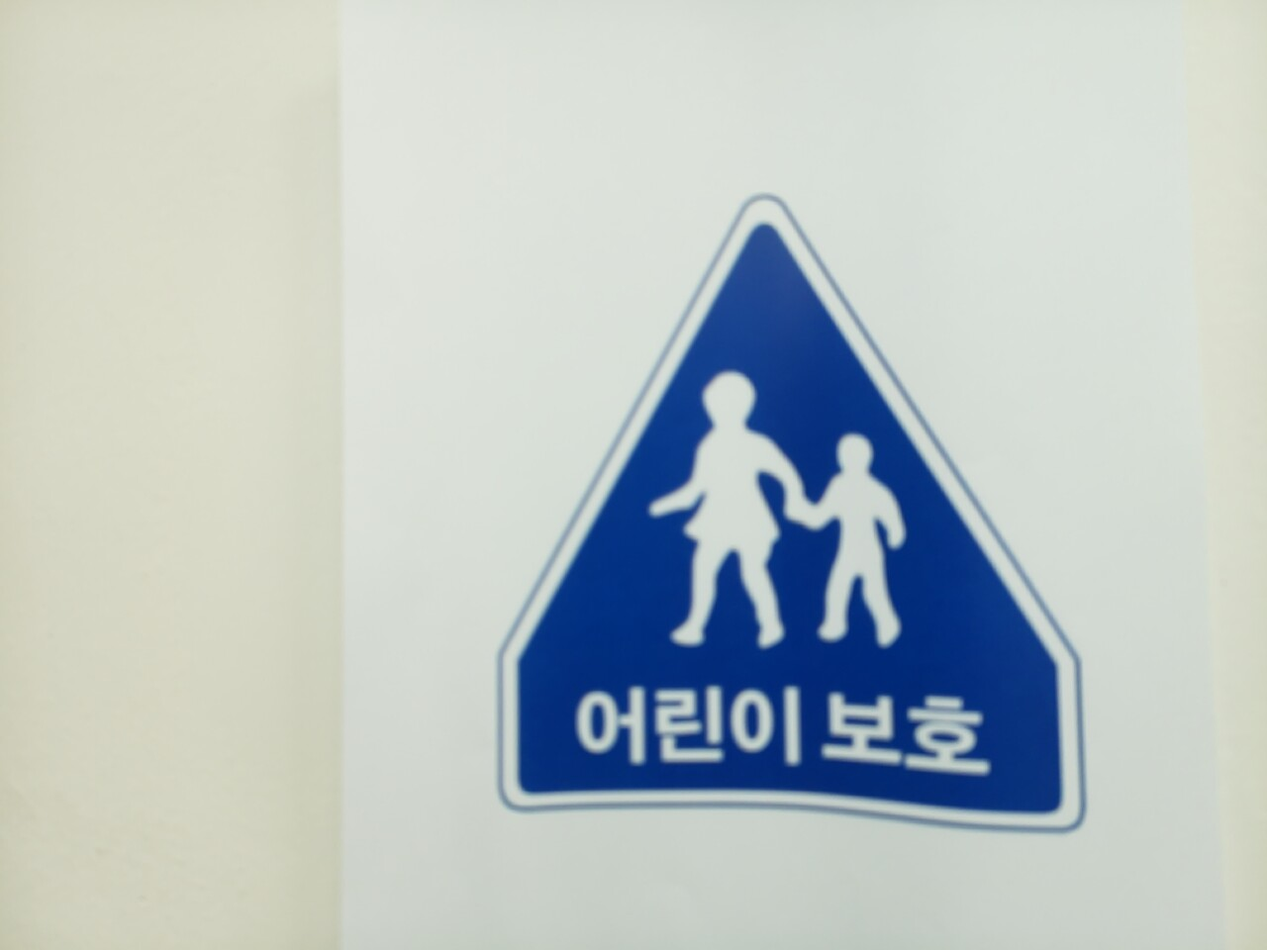school_zone: (502, 208, 1077, 830)
